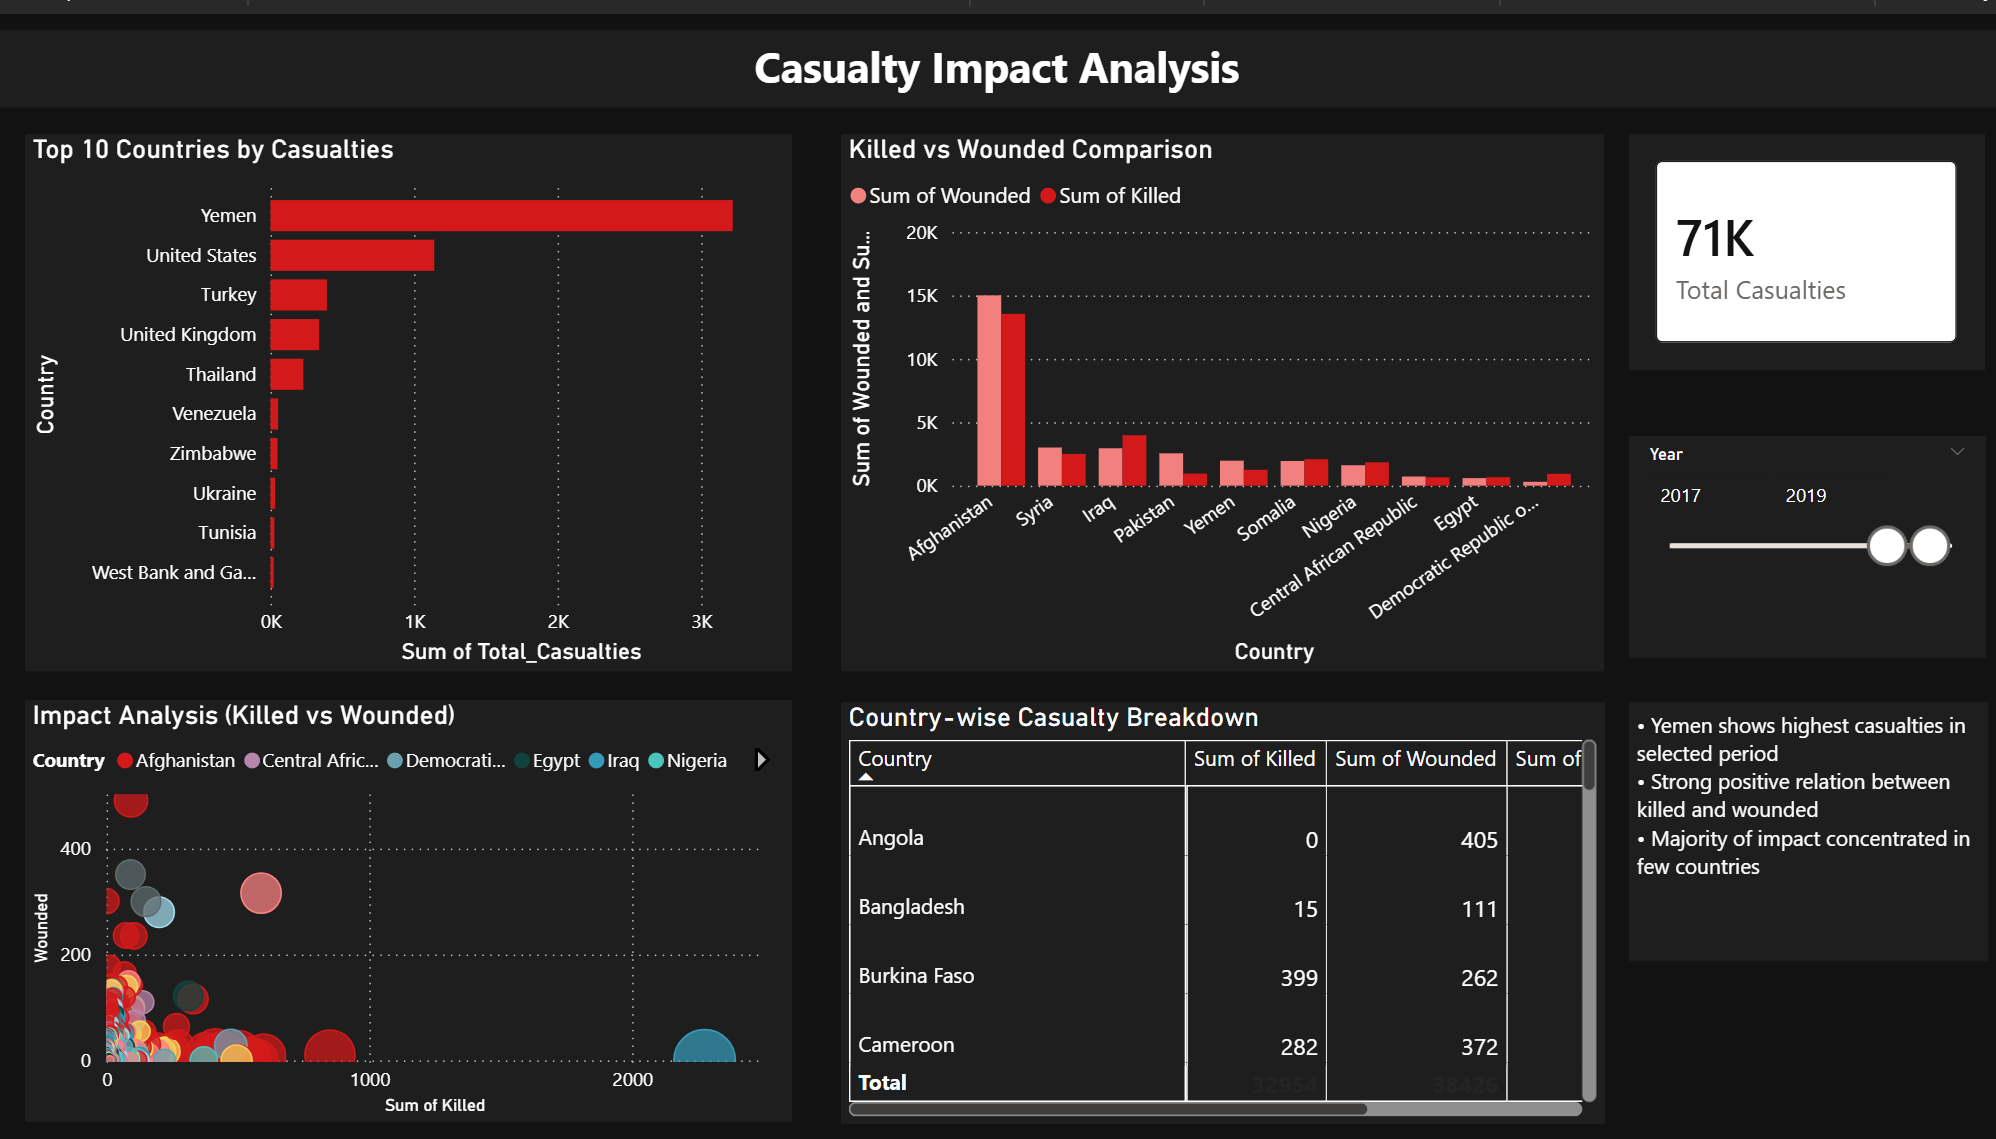

The page's visual inventory and layout, read from the dashboard file:
{"tool":"powerbi","page":{"name":"Casualty Analysis","canvas":[1280,720],"ordinal":2},"visuals":[{"type":"clusteredBarChart","title":"Top 10 Countries by Casualties","fields":{"Category":["Data.Country"],"Y":["Sum(Data.Total_Casualties)"]},"box":[20,76.2,488.8,342.5],"z":0},{"type":"clusteredColumnChart","title":"Killed vs Wounded Comparison","fields":{"Category":["Data.Country"],"Y":["Sum(Data.Wounded)","Sum(Data.Killed)"]},"box":[540,76.2,486.2,342.5],"z":1000},{"type":"scatterChart","title":"Impact Analysis (Killed vs Wounded)","fields":{"X":["Sum(Data.Killed)"],"Y":["Data.Wounded"],"Size":["Sum(Data.Total_Casualties)"],"Series":["Data.Country"]},"box":[20,437.5,488.8,268.8],"z":2000},{"type":"pivotTable","title":"Country-wise Casualty Breakdown","fields":{"Rows":["Data.Country"],"Values":["Sum(Data.Killed)","Sum(Data.Wounded)","Sum(Data.Total_Casualties)"]},"box":[540,438.8,486.2,268.8],"z":3000},{"type":"slicer","fields":{"Values":["Data.Year"]},"box":[1042.9,269,226.9,141.5],"z":4000},{"type":"textbox","box":[0,10.2,1280,49.7],"z":5000},{"type":"textbox","box":[1042.5,438.8,228.8,165],"z":6000},{"type":"cardVisual","fields":{"Data":["Sum(Data.Total_Casualties)"]},"box":[1042.9,76.5,226.9,150.4],"z":6001}]}

Visuals, with their boxes in screenshot pixels (x1, y1, x2, y2), scaled from the page's 1280x720 canvas onto the 1996x1139 screenshot:
"Top 10 Countries by Casualties" clusteredBarChart: rect(31, 121, 793, 662)
"Killed vs Wounded Comparison" clusteredColumnChart: rect(842, 121, 1600, 662)
"Impact Analysis (Killed vs Wounded)" scatterChart: rect(31, 692, 793, 1117)
"Country-wise Casualty Breakdown" pivotTable: rect(842, 694, 1600, 1119)
slicer - Data.Year: rect(1626, 426, 1980, 649)
textbox: rect(0, 16, 1995, 95)
textbox: rect(1626, 694, 1982, 955)
cardVisual - Sum(Data.Total_Casualties): rect(1626, 121, 1980, 359)
